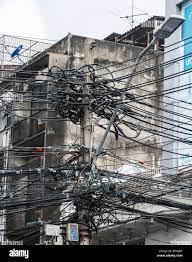wires: (77, 179, 192, 235), (53, 68, 119, 120)
